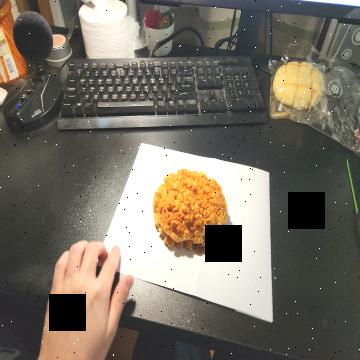soboru_bread: (150, 170, 229, 258)
